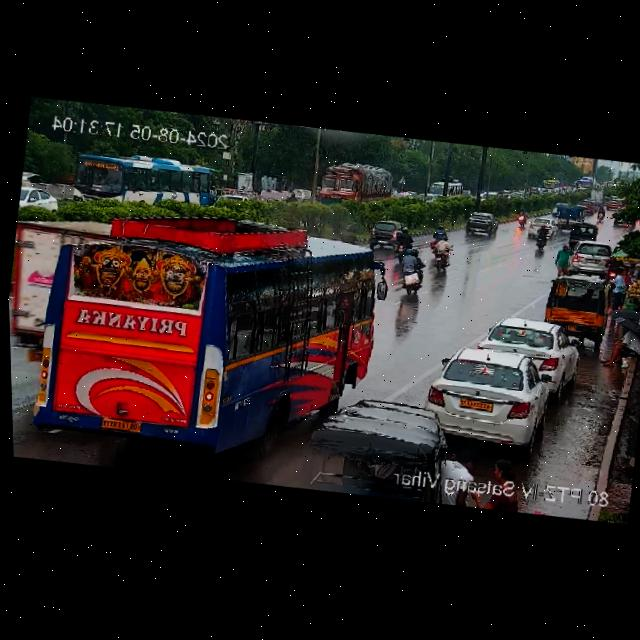bus: (12, 192, 392, 478), (63, 145, 217, 215), (426, 176, 467, 201), (539, 175, 563, 193), (576, 177, 596, 191)
car: (311, 395, 437, 476), (441, 346, 548, 441), (499, 315, 581, 388), (543, 275, 611, 345), (570, 240, 614, 276), (18, 188, 60, 216), (463, 210, 501, 239), (369, 218, 401, 248), (526, 216, 558, 241), (567, 221, 596, 246)
motorcycle: (397, 246, 424, 296), (432, 237, 453, 274), (393, 226, 416, 259), (430, 225, 446, 250), (536, 222, 548, 252), (516, 210, 529, 230), (283, 193, 300, 204), (596, 202, 605, 221)
person: (603, 320, 640, 380), (445, 445, 483, 475), (478, 452, 514, 482), (613, 265, 635, 308), (555, 243, 574, 277)
truck: (6, 199, 111, 358), (308, 155, 400, 215), (554, 203, 589, 231), (586, 186, 608, 206)
